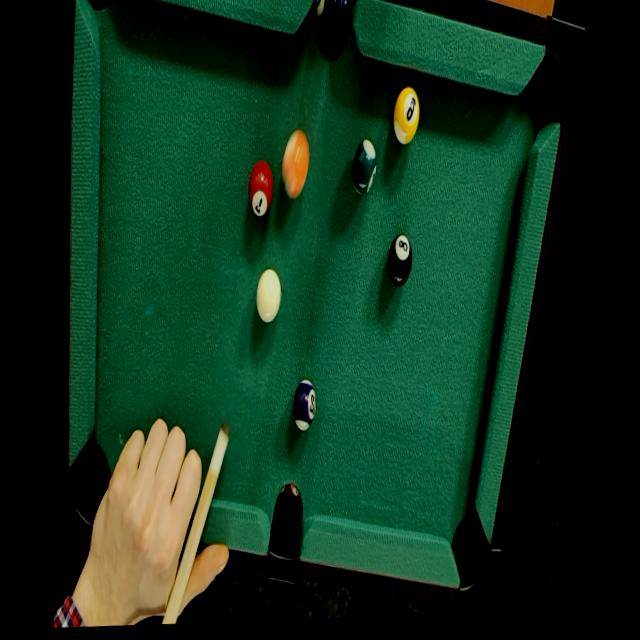cue ball: (253, 258, 286, 328)
other: (345, 126, 381, 200), (389, 71, 422, 149), (280, 124, 310, 199), (246, 149, 276, 218), (291, 375, 319, 444), (386, 225, 414, 291)
